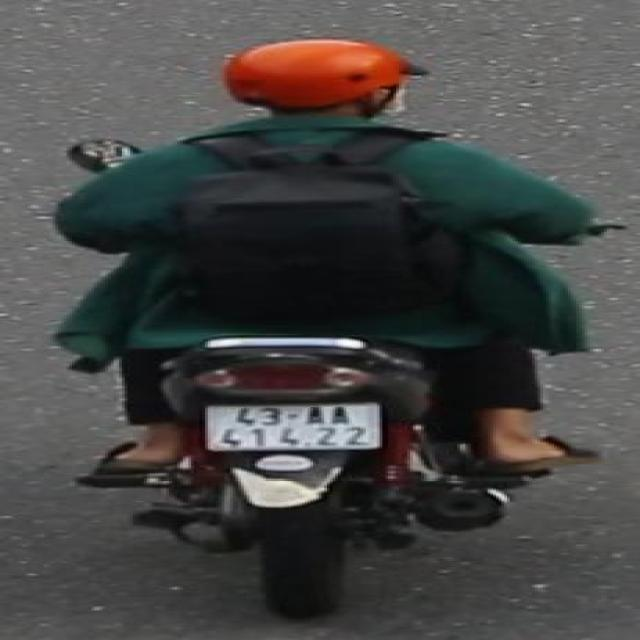LP: (192, 397, 398, 457)
helmet: (204, 25, 439, 135)
